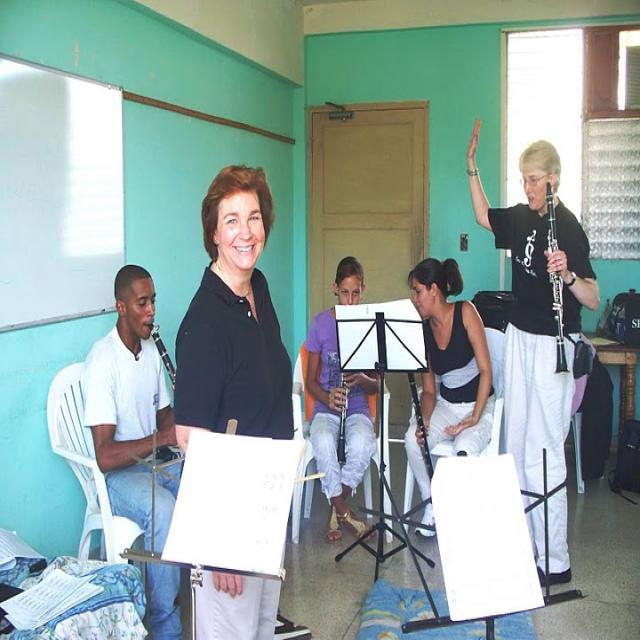clarinet: (543, 181, 575, 380), (403, 370, 436, 483), (333, 366, 354, 466), (147, 322, 178, 385)
